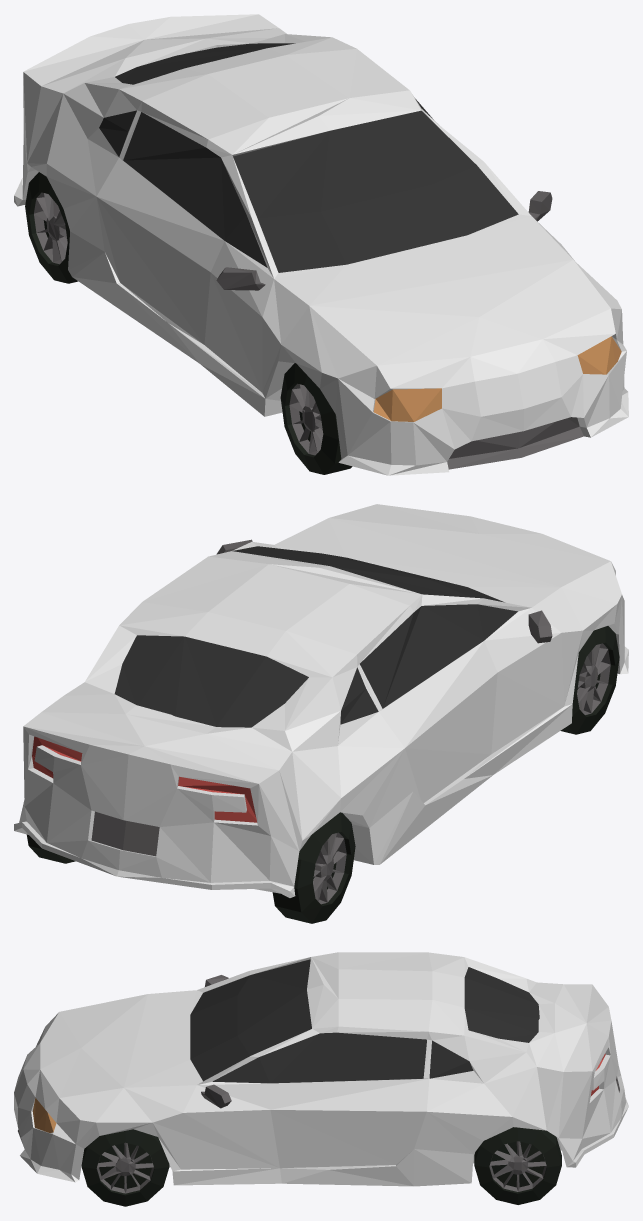
The model's file is sports-car-a-neutral.glb.
3 views of the same model, one above another, from view 1: azimuth 30°, elevation 25°; view 2: azimuth 150°, elevation 25°; view 3: azimuth 270°, elevation 25° (orthographic). The views are drawn at different scales.
Visible parts, largest first — view 1: SportsCar2_Cube.006; view 2: SportsCar2_Cube.006; view 3: SportsCar2_Cube.006.
Part boxes in pixels (box(x1,y1,x2,y2)): SportsCar2_Cube.006: box(14, 14, 628, 475); SportsCar2_Cube.006: box(14, 504, 628, 923); SportsCar2_Cube.006: box(14, 952, 628, 1206).
Size of the model in its own units: 1.87 by 1.2 by 3.93.
1 material, 1 textured.
